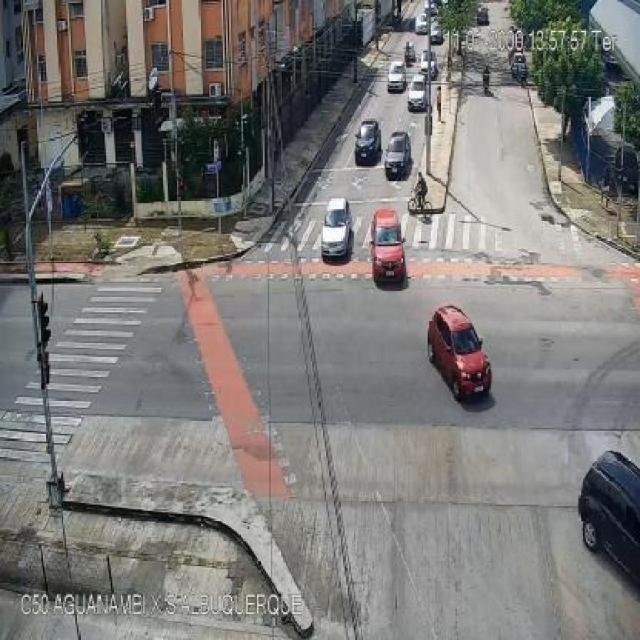Car: (576, 448, 640, 580), (422, 304, 502, 402), (370, 208, 407, 290), (319, 194, 353, 263), (350, 116, 382, 168), (383, 129, 410, 182), (405, 76, 428, 115), (385, 60, 407, 97), (419, 46, 438, 78), (414, 11, 430, 37), (427, 24, 443, 46)
Cycle: (408, 171, 433, 219), (399, 37, 416, 72)
